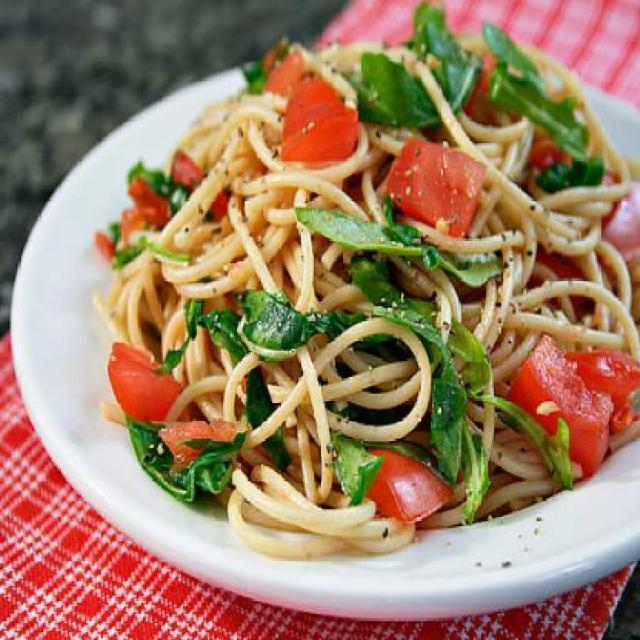Oil pasta: (123, 40, 640, 562)
